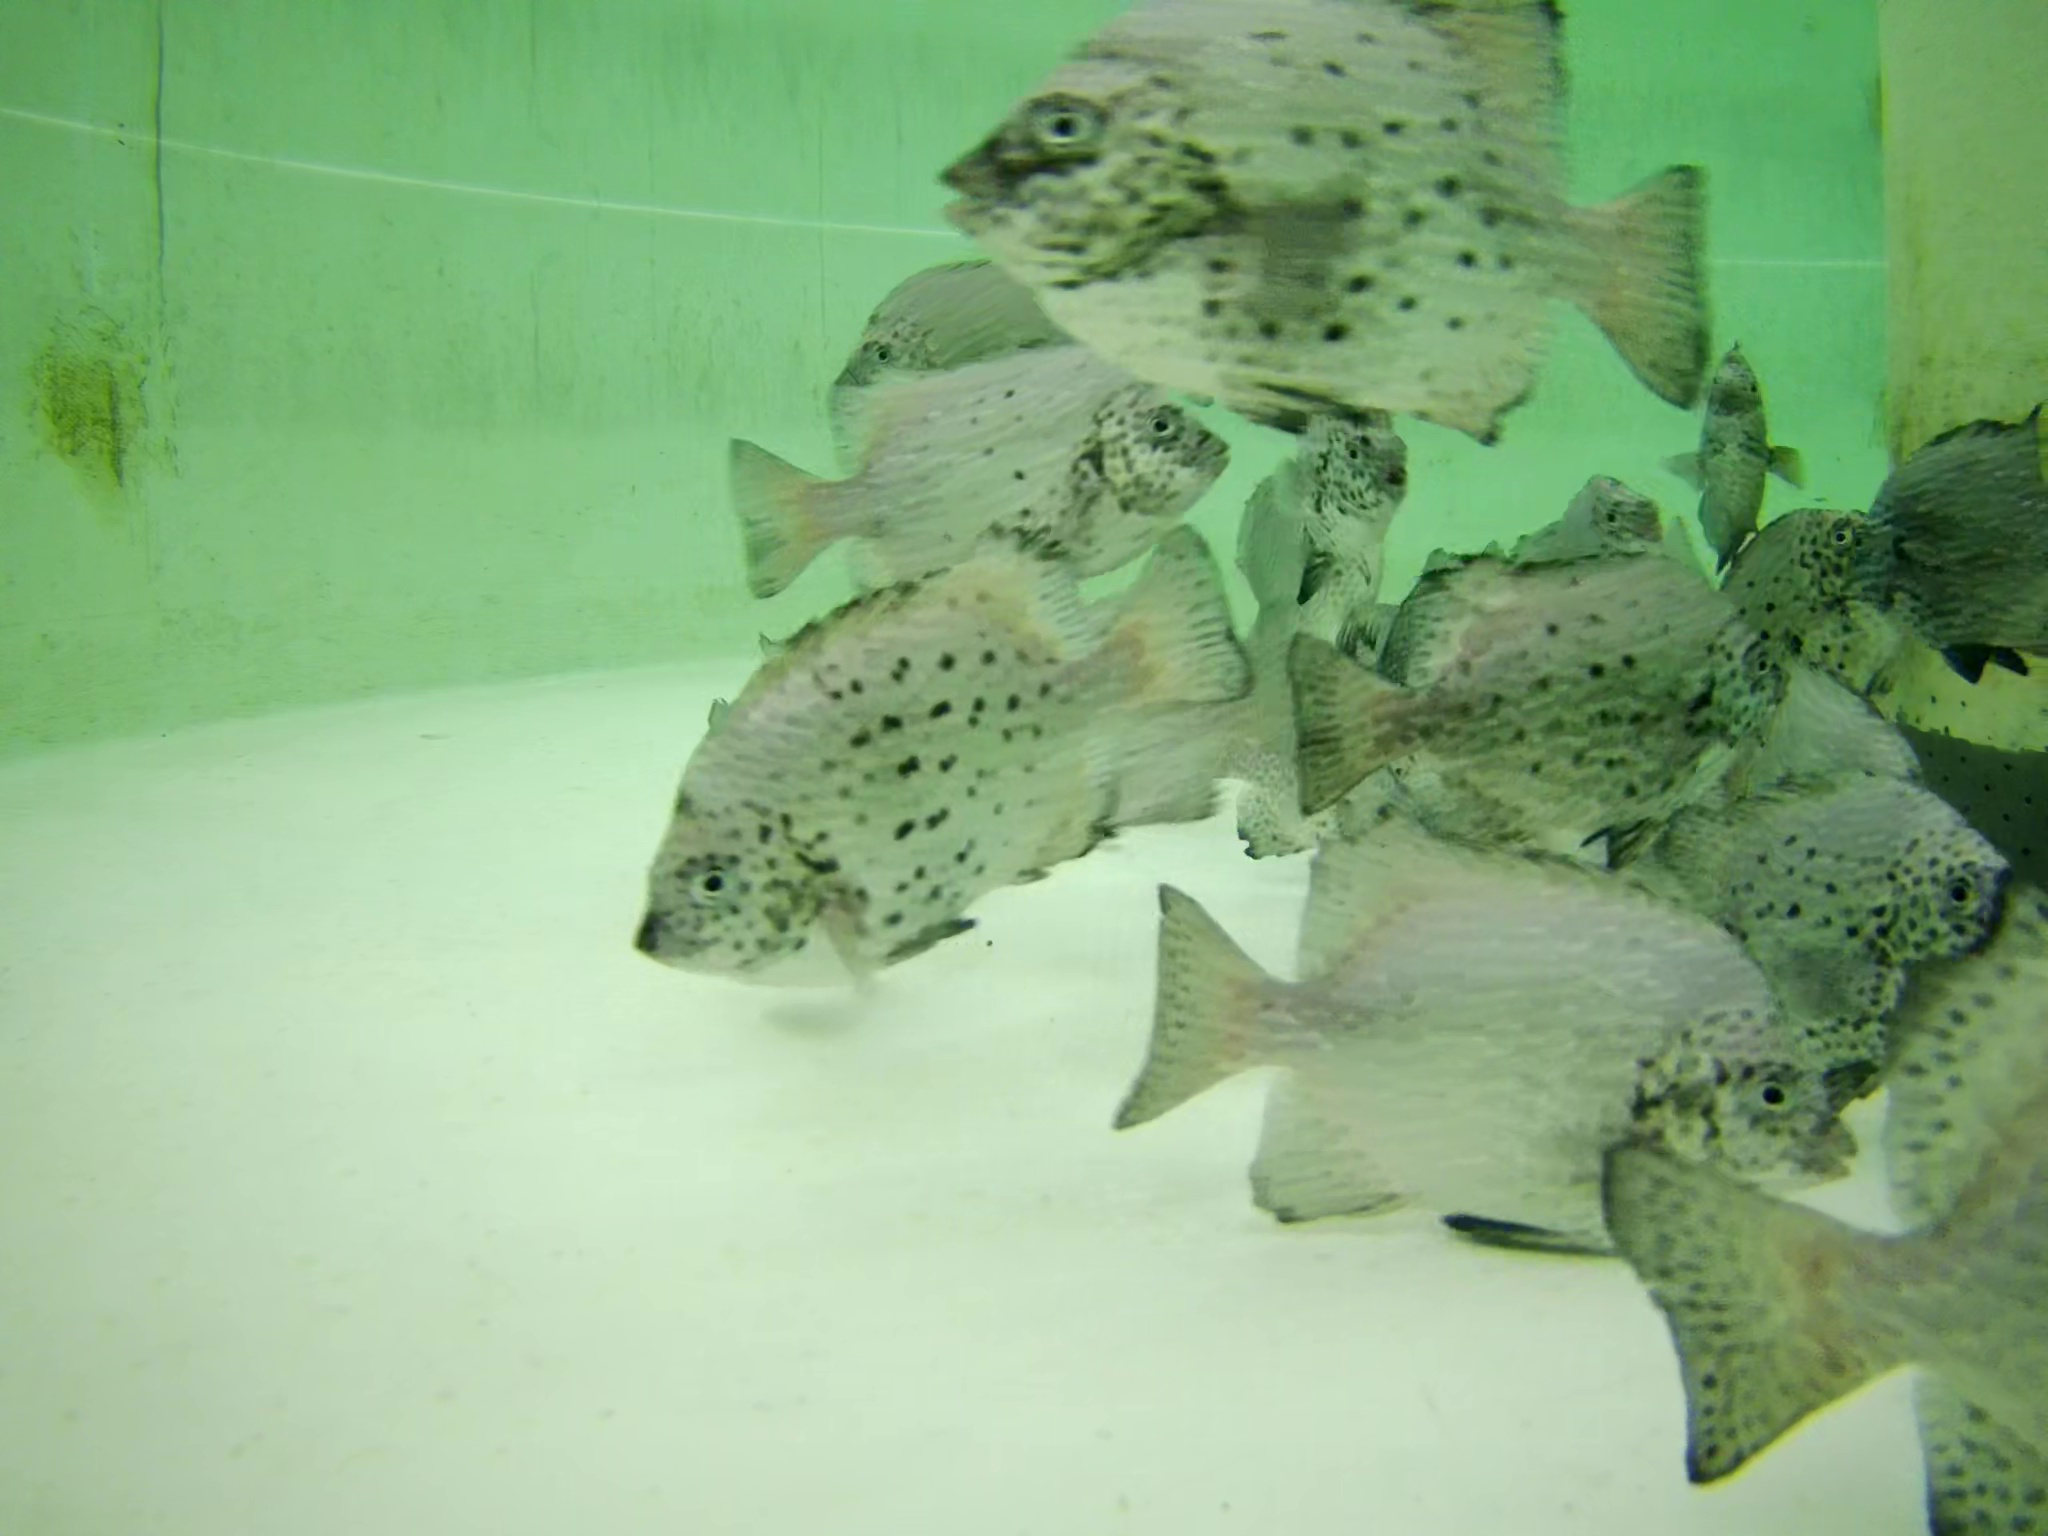fish: (932, 2, 1722, 436), (1126, 824, 1854, 1229), (621, 524, 1247, 955), (1646, 881, 2048, 1457), (1297, 576, 1814, 826), (718, 366, 1229, 581), (1642, 784, 2008, 971), (1837, 402, 2048, 666), (829, 261, 1095, 392), (1684, 331, 1787, 571), (1301, 415, 1409, 603), (1506, 474, 1666, 579), (963, 369, 984, 371)
